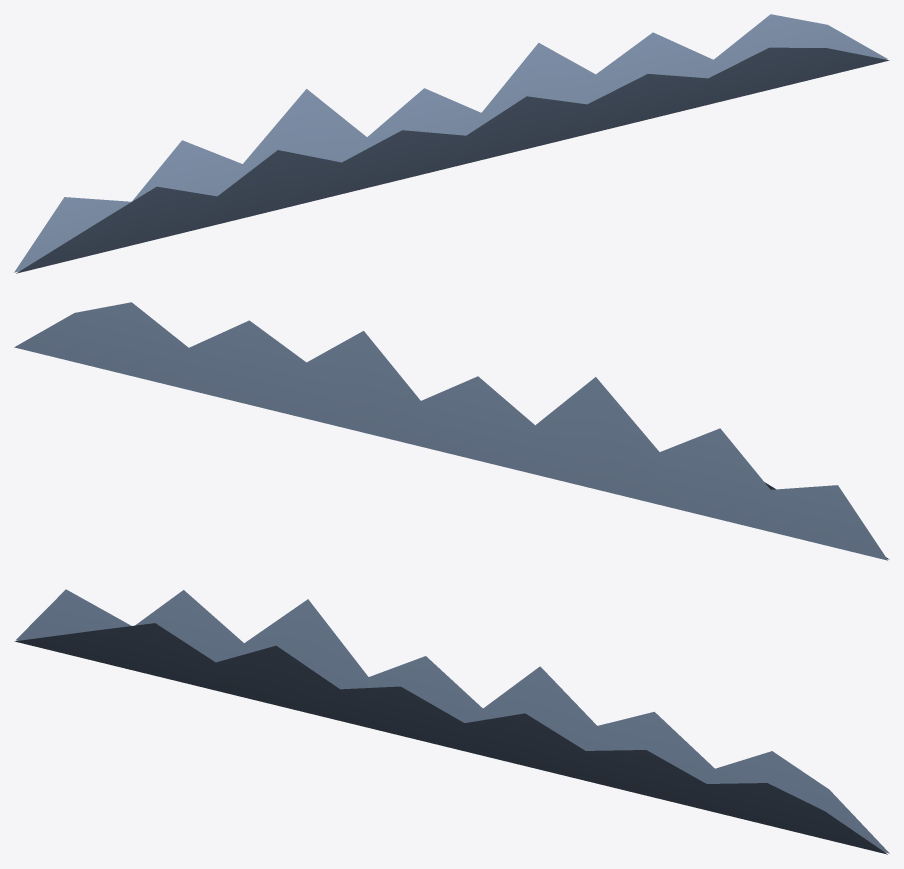
Rendered from bg_mountains.glb.
The picture shows the model from 3 angles, top to bottom: view 1: azimuth 30°, elevation 25°; view 2: azimuth 150°, elevation 25°; view 3: azimuth 330°, elevation 25°; orthographic projection.
Size of the model in its own units: 2600 by 320 by 8.
